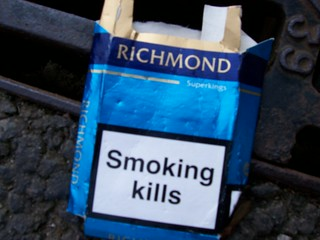cigarette: (65, 0, 277, 240)
